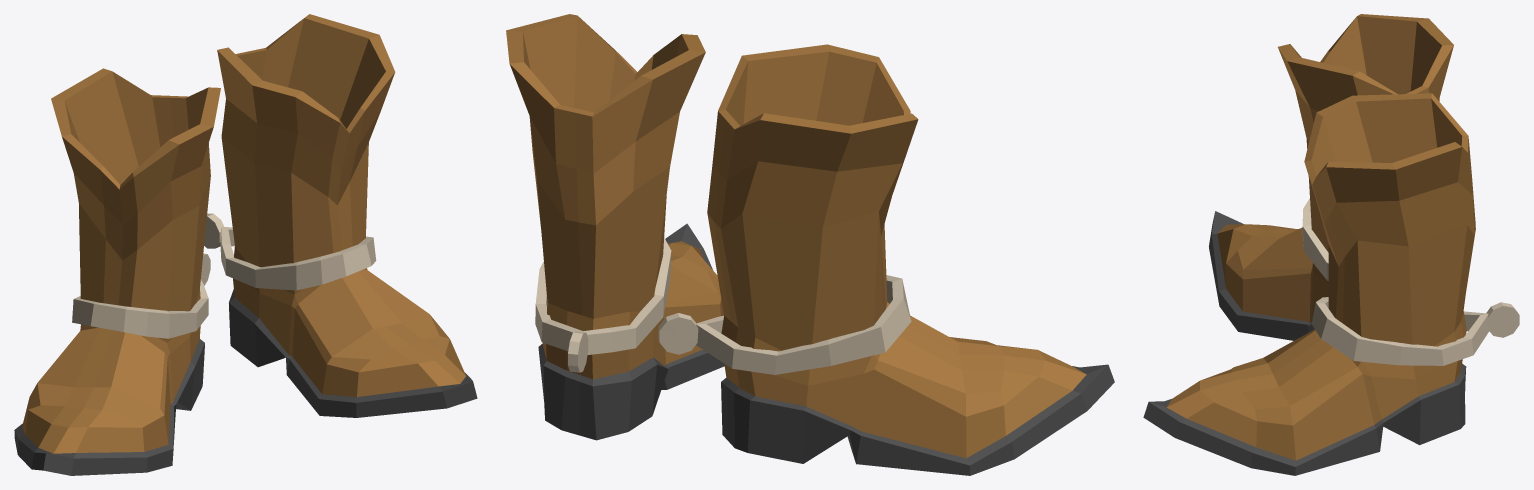
Rendered from Boots_Cowboy.fbx.
3 views of the same model, side by side, from view 1: azimuth 30°, elevation 25°; view 2: azimuth 150°, elevation 25°; view 3: azimuth 270°, elevation 25° (orthographic). The views are drawn at different scales.
Parts seen in each view (by area): view 1: Boots_Cowboy; view 2: Boots_Cowboy; view 3: Boots_Cowboy.
Boxes of the visible parts, x1,y1,x2,y2 form: Boots_Cowboy: (14, 14, 477, 475); Boots_Cowboy: (506, 14, 1114, 475); Boots_Cowboy: (1143, 14, 1519, 475).
Bounding box in the file's own units: 40.46 × 29.73 × 26.91.
